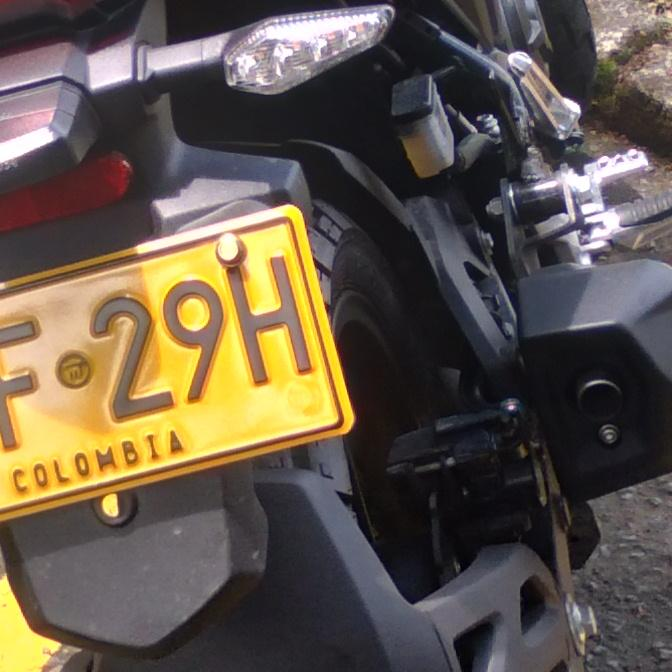plates: (0, 209, 360, 522)
